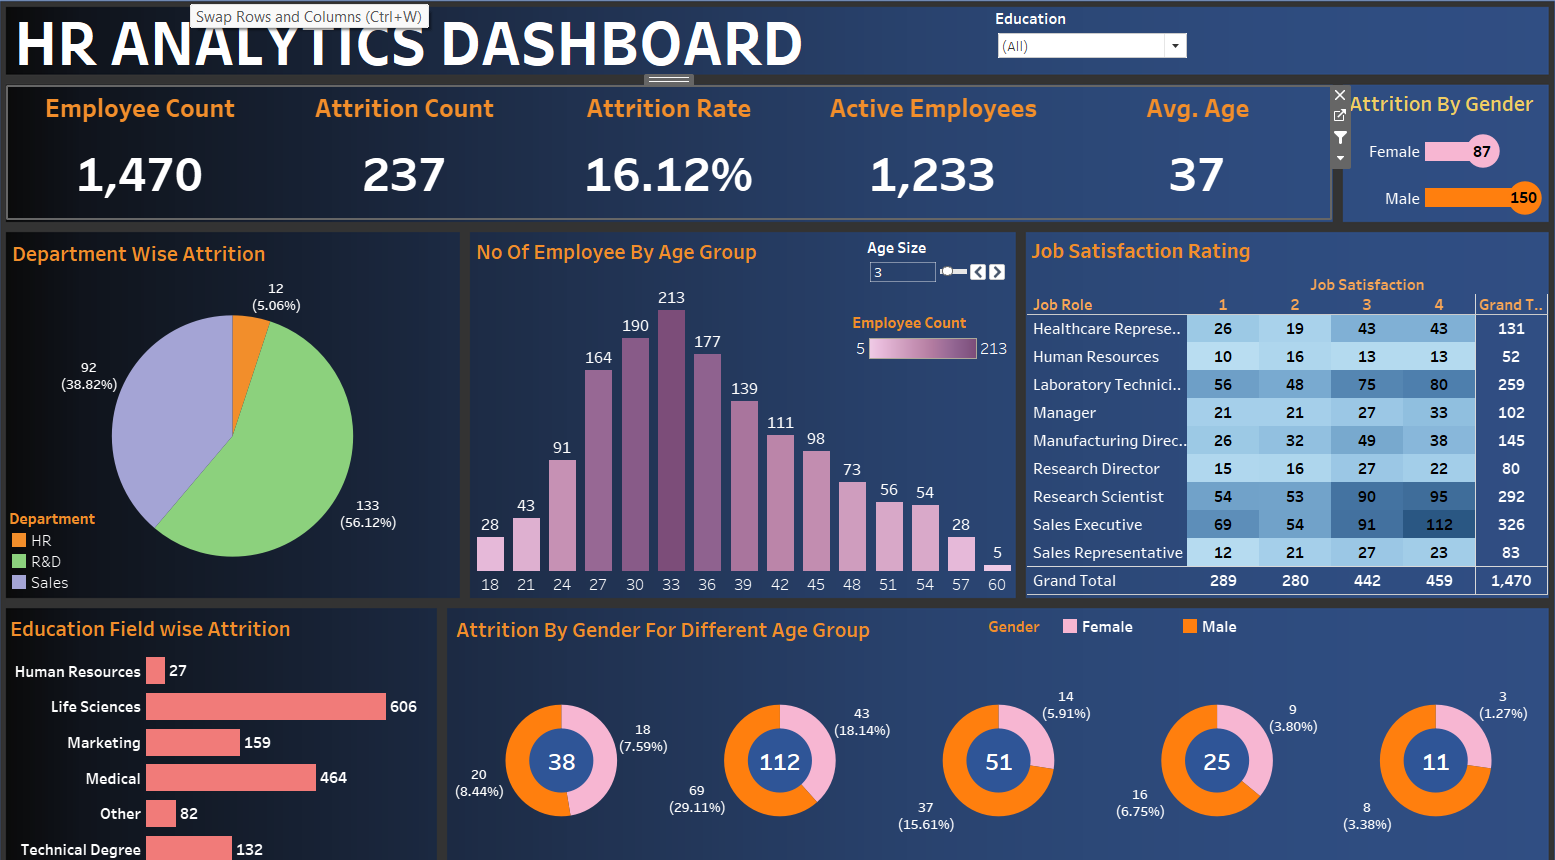

This screenshot's page, from the dashboard's own definition file:
{"tool":"tableau","page":{"name":"HR Analytics Dashboard","canvas":[1580,900],"ordinal":0},"visuals":[{"type":"image","param":"D:/downloads/HR background.png/p1in3o0pc7a4m44413m8153118n4-3.png","box":[8,8,1564,884]},{"type":"filter","title":"Department Wise Attrition","param":"[federated.10qjlmp0gt14v213pcn6v1hkp4d1].[none:Education:nk]","box":[1008,20,195,61]},{"type":"text","box":[24,23,866,59]},{"type":"worksheet","title":"Attrition By Gender","mark":"Automatic","rows":["Gender"],"cols":["Calculation_1257348781357899776","Calculation_1257348781357899776"],"box":[1358,97,202,136]},{"type":"worksheet","title":"KPI","mark":"Automatic","box":[21,99,1322,131]},{"type":"worksheet","title":"Job Satisfaction Rating","mark":"Square","rows":["Job Role"],"cols":["Job Satisfaction"],"box":[1040,244,521,363]},{"type":"worksheet","title":"No Of Employee By Age Group","mark":"Automatic","rows":["Employee Count"],"cols":["Age (bin)"],"box":[485,245,544,363]},{"type":"worksheet","title":"Department Wise Attrition","mark":"Pie","box":[21,247,449,359]},{"type":"parameter","param":"[Parameters].[Parameter 1]","box":[880,249,141,60]},{"type":"legend","title":"No Of Employee By Age Group","param":"[federated.10qjlmp0gt14v213pcn6v1hkp4d1].[sum:Employee Count:qk]","box":[865,324,160,57]},{"type":"legend","title":"Department Wise Attrition","param":"[federated.10qjlmp0gt14v213pcn6v1hkp4d1].[none:Department:nk]","box":[22,520,97,85]},{"type":"worksheet","title":"Education Field wise Attrition","mark":"Automatic","rows":["Education Field"],"cols":["Calculation_1257348781357899776"],"box":[19,622,428,257]},{"type":"worksheet","title":"Attrition By Gender For Different Age Group","mark":"Pie","rows":["Calculation_144678198828515330","Calculation_144678198828515330"],"cols":["CF_age band"],"box":[465,623,1093,256]},{"type":"legend","title":"Attrition By Gender For Different Age Group","param":"[federated.10qjlmp0gt14v213pcn6v1hkp4d1].[none:Gender:nk]","box":[1001,628,324,30]}]}

Visuals, with their boxes on the page's 1580x900 design canvas (x1, y1, x2, y2). These are canvas units, not pixel positions in the 1555x860 screenshot, which may show the page scaled, cropped or inside an application window:
image: bbox(8, 8, 1572, 892)
"Department Wise Attrition" filter: bbox(1008, 20, 1203, 81)
text: bbox(24, 23, 890, 82)
"Attrition By Gender" worksheet: bbox(1358, 97, 1560, 233)
"KPI" worksheet: bbox(21, 99, 1343, 230)
"Job Satisfaction Rating" worksheet (Square marks): bbox(1040, 244, 1561, 607)
"No Of Employee By Age Group" worksheet: bbox(485, 245, 1029, 608)
"Department Wise Attrition" worksheet (Pie marks): bbox(21, 247, 470, 606)
parameter: bbox(880, 249, 1021, 309)
"No Of Employee By Age Group" legend: bbox(865, 324, 1025, 381)
"Department Wise Attrition" legend: bbox(22, 520, 119, 605)
"Education Field wise Attrition" worksheet: bbox(19, 622, 447, 879)
"Attrition By Gender For Different Age Group" worksheet (Pie marks): bbox(465, 623, 1558, 879)
"Attrition By Gender For Different Age Group" legend: bbox(1001, 628, 1325, 658)
